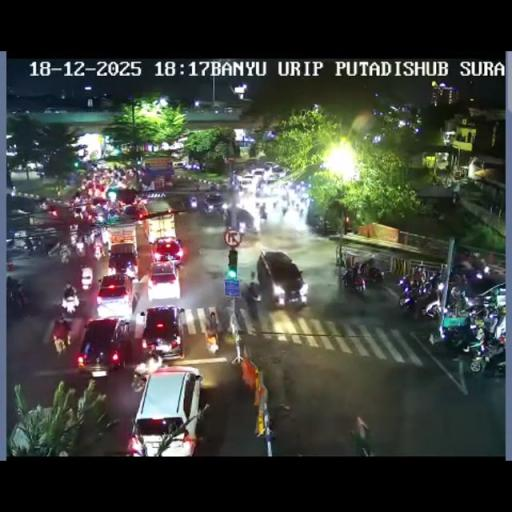Car: (128, 365, 202, 454), (76, 316, 130, 378), (256, 250, 307, 308), (140, 305, 186, 361), (95, 274, 135, 319), (146, 261, 182, 302), (107, 242, 140, 280), (151, 236, 184, 266), (111, 188, 140, 207), (203, 192, 225, 214), (79, 264, 94, 290), (250, 168, 266, 185), (238, 176, 253, 190), (270, 164, 284, 176), (25, 161, 42, 170), (171, 159, 188, 168), (43, 107, 64, 114)
Motorcycle: (398, 278, 440, 320), (439, 313, 480, 354), (478, 340, 506, 378), (462, 299, 495, 326), (266, 404, 292, 437), (341, 264, 365, 294), (243, 284, 260, 323), (204, 311, 219, 353), (52, 318, 70, 351), (361, 263, 384, 286), (492, 306, 506, 340), (60, 291, 79, 316), (130, 369, 148, 393), (449, 269, 469, 290), (98, 206, 120, 224), (454, 288, 468, 316), (427, 270, 444, 292), (205, 260, 223, 280), (15, 284, 28, 310), (6, 276, 18, 302), (28, 236, 44, 254), (74, 236, 87, 258), (72, 204, 87, 222), (48, 240, 62, 258), (92, 241, 103, 261), (222, 206, 230, 225), (60, 249, 70, 264), (84, 230, 94, 245), (451, 190, 460, 206), (218, 182, 230, 193), (6, 236, 16, 249), (238, 220, 246, 234), (208, 182, 218, 192), (281, 203, 288, 216), (298, 206, 304, 218), (260, 210, 267, 220), (272, 200, 278, 209), (254, 201, 260, 209)
